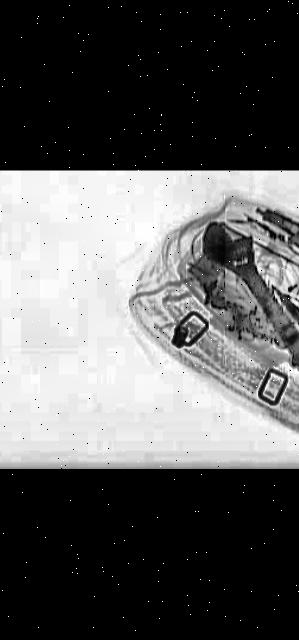Wrench: (179, 218, 299, 389)
